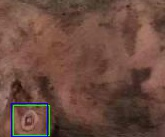text: (13, 105, 49, 135)
